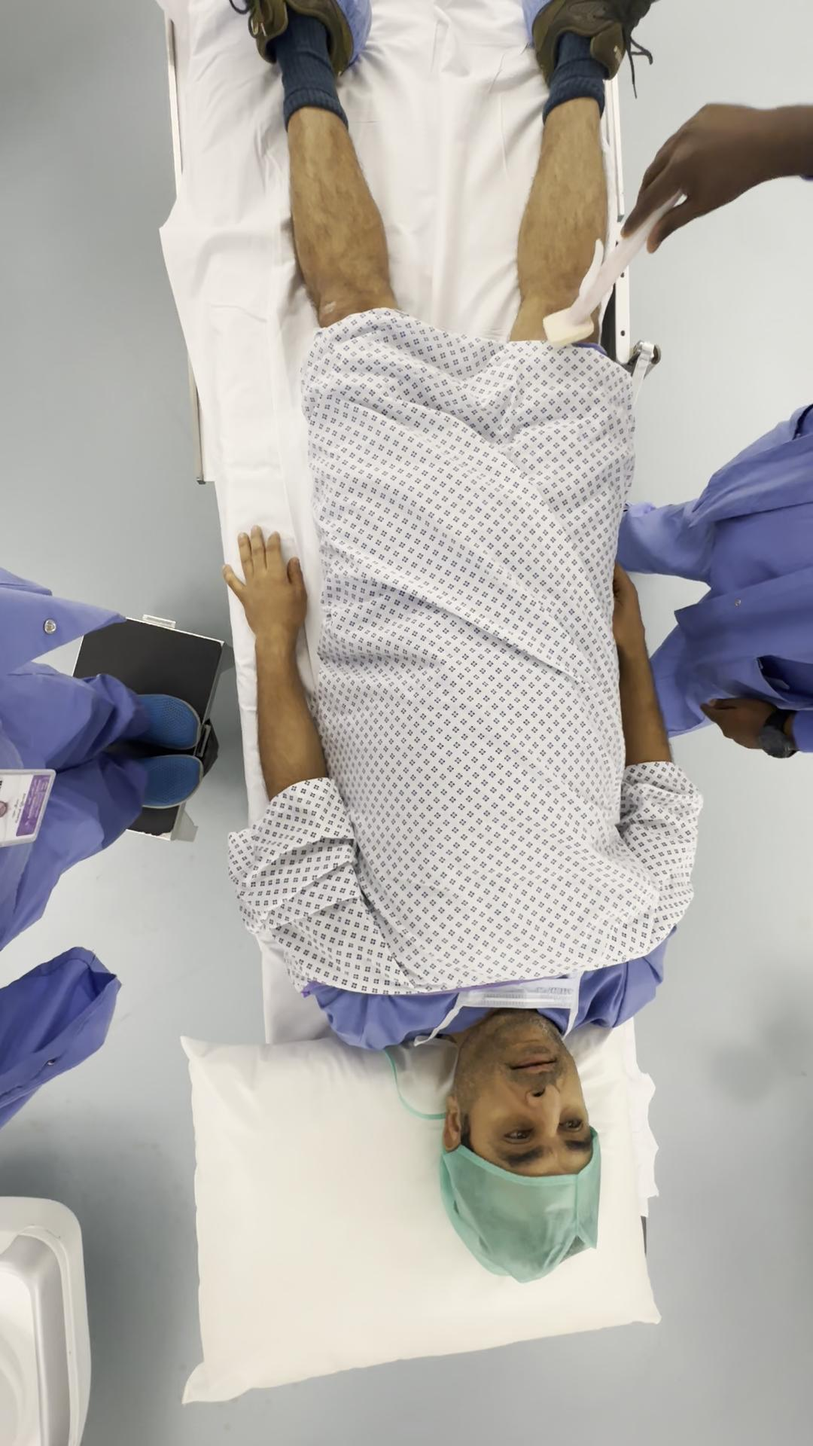bed: (161, 0, 700, 1401)
prepstick: (542, 192, 683, 347)
